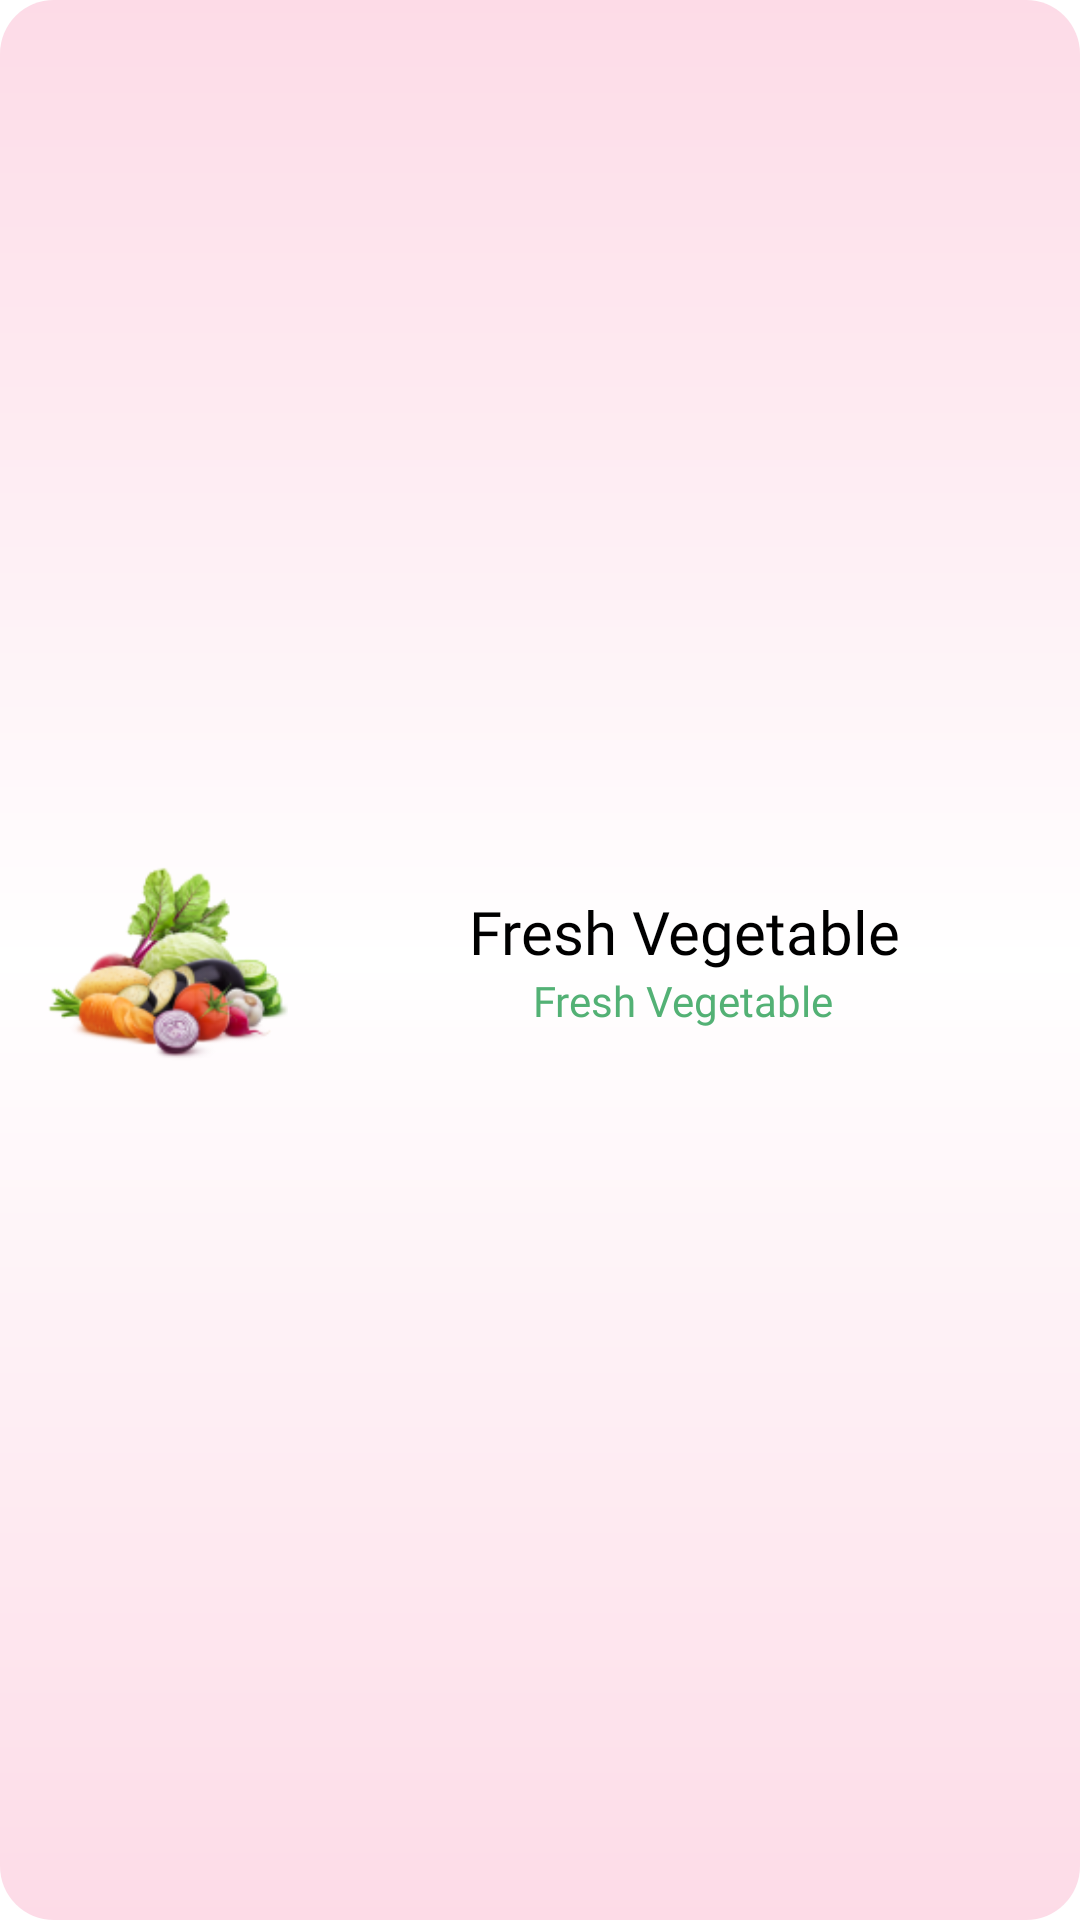

Where icons sit on this 1080x1920 app screen, as (x1, y1, x2, y2):
vegetable: (49, 868, 286, 1057)
